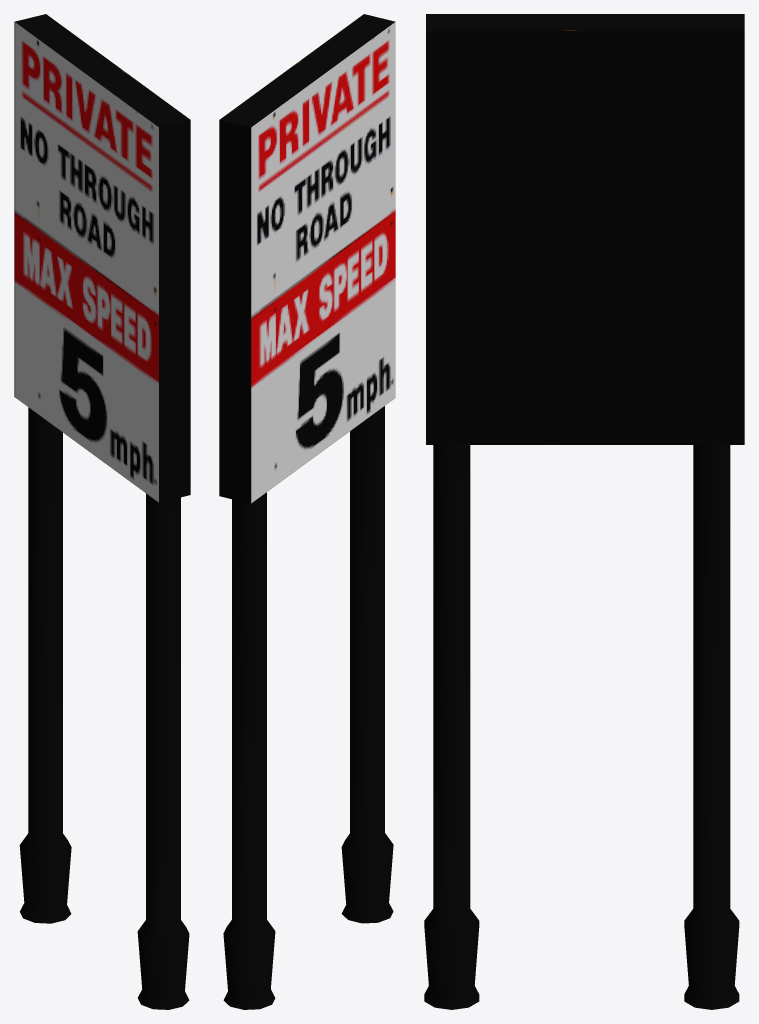
3 renders of one model, left to right at view 1: azimuth 30°, elevation 25°; view 2: azimuth 150°, elevation 25°; view 3: azimuth 270°, elevation 25°, orthographic. The views are drawn at different scales.
Visible parts, largest first — view 1: Cylinder002; view 2: Cylinder002; view 3: Cylinder002.
Boxes of the visible parts, x1,y1,x2,y2 form: Cylinder002: (14,14,190,1009); Cylinder002: (219,14,395,1009); Cylinder002: (424,14,744,1009).
Bounding box in the file's own units: 1.42 × 26.53 × 7.89.
